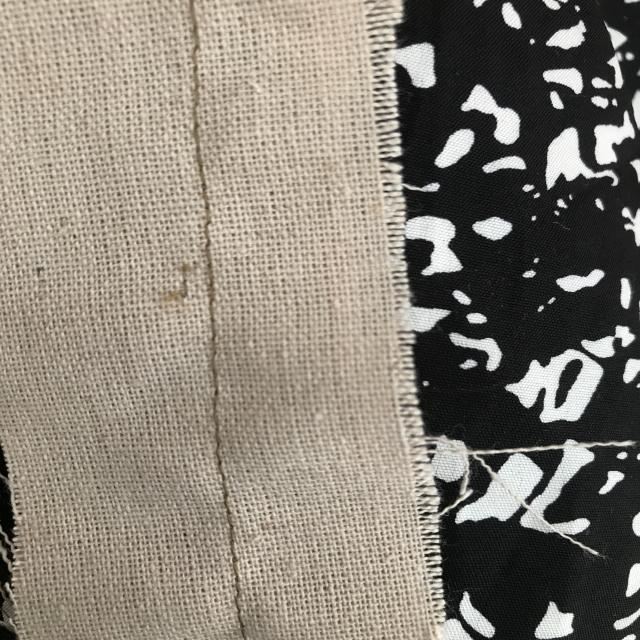good: (186, 340, 244, 458), (174, 85, 220, 195), (217, 513, 253, 604)
